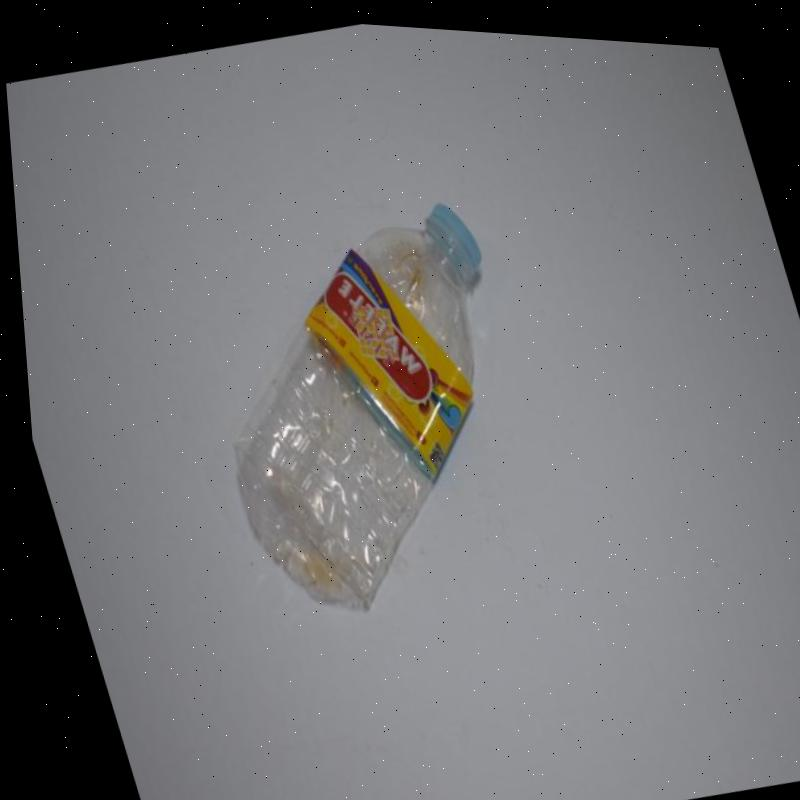botella: (155, 176, 574, 642)
